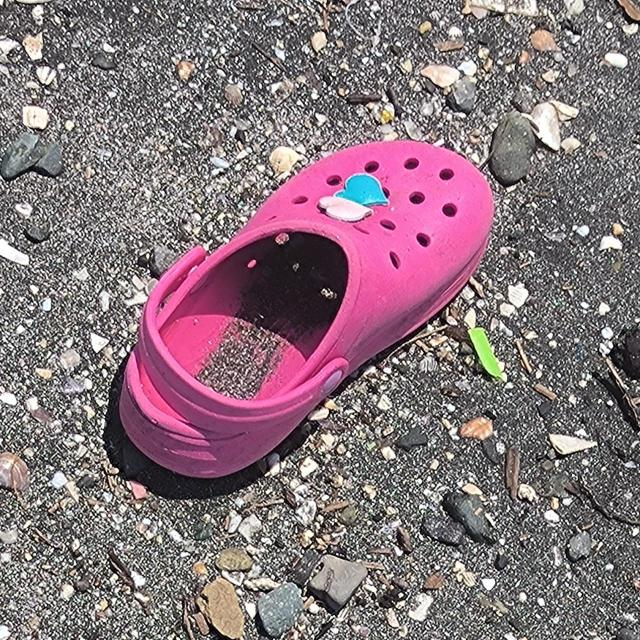litter: (118, 143, 493, 479)
